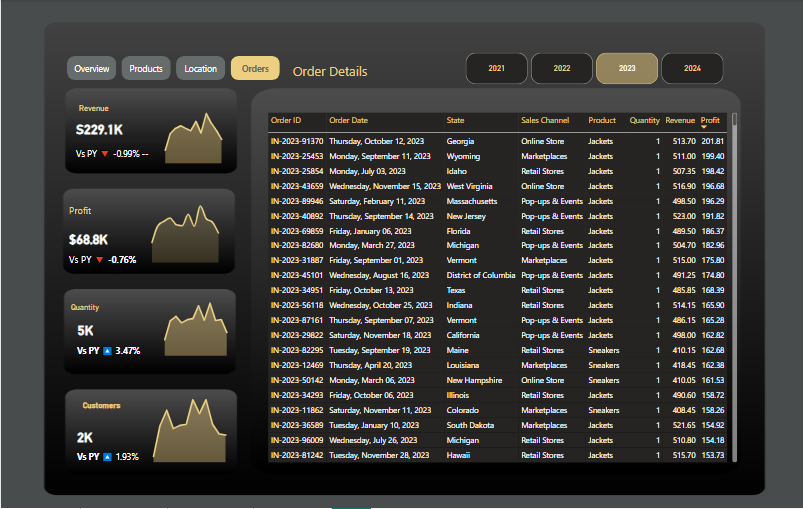

The page's visual inventory and layout, read from the dashboard file:
{"tool":"powerbi","page":{"name":"Orders","canvas":[1500,950],"ordinal":3},"visuals":[{"type":"group","id":"g1","title":"Group 6","box":[111,188.5,358.2,498.6],"z":0},{"type":"group","id":"g2","title":"Group 2","box":[111,358.2,344.1,138.6],"z":0,"group":"g1"},{"type":"group","id":"g3","title":"Group 4","box":[123.6,188.5,333.1,121.5],"z":1000,"group":"g1"},{"type":"cardVisual","fields":{"Data":["Wears.TotalProfit"]},"box":[111,363,162.3,133.8],"z":1000,"group":"g6"},{"type":"group","id":"g4","title":"Group 3","box":[125.7,729.1,345.7,171.8],"z":1000},{"type":"tableEx","fields":{"Values":["Wears.Order ID","Wears.Order Date","Wears.State","Wears.Sales Channel","Wears.Product Name","CountNonNull(Wears.Quantity)","Sum(Wears.Revenue)","Wears.TotalProfit"]},"box":[493.7,205.7,888.3,663.9],"z":2000},{"type":"group","id":"g5","title":"Group 1","box":[125.7,523.7,343.6,163.4],"z":2000,"group":"g1"},{"type":"advancedSlicerVisual","fields":{"Values":["Calendar.Year"]},"box":[863.1,94.3,492.3,69.1],"z":3000},{"type":"cardVisual","fields":{"Data":["Sum(Wears.Revenue)"]},"box":[123.6,205.3,180.2,104.7],"z":3000,"group":"g3"},{"type":"textbox","box":[540.5,111,444.1,77.5],"z":4000},{"type":"areaChart","fields":{"Y":["Sum(Wears.Revenue)"],"Category":["Calendar.Month No"]},"box":[282.8,188.5,173.9,121.5],"z":4000,"group":"g3"},{"type":"cardVisual","fields":{"Data":["Wears.TotalCustomers"]},"box":[125.7,758.4,169.7,142.5],"z":4000,"group":"g4"},{"type":"pageNavigator","box":[123.6,104.7,398,48.2],"z":5000},{"type":"cardVisual","fields":{"Data":["Wears.TotalQuantity"]},"box":[125.7,574,173.9,113.1],"z":5000,"group":"g5"},{"type":"textbox","box":[125.7,561.4,136.2,35.6],"z":6000,"group":"g5"},{"type":"areaChart","fields":{"Category":["Calendar.Month No"],"Y":["Wears.TotalCustomers"]},"box":[257.7,729.1,213.7,140.4],"z":6000,"group":"g4"},{"type":"textbox","box":[140.4,188.5,163.4,35.6],"z":7000,"group":"g3"},{"type":"stackedAreaChart","fields":{"Category":["Calendar.Month No"],"Y":["Wears.TotalProfit"]},"box":[256,358.2,199.2,137.2],"z":7000,"group":"g6"},{"type":"areaChart","fields":{"Y":["Sum(Wears.Quantity)"],"Category":["Calendar.Month No"]},"box":[280.7,523.7,188.5,146.6],"z":9000,"group":"g5"},{"type":"textbox","box":[148.7,743.8,90.1,35.6],"z":10000,"group":"g4"},{"type":"group","id":"g6","title":"Group 5","box":[111,358.2,344.1,138.6],"z":10002,"group":"g2"}]}

Visuals, with their boxes in screenshot pixels (x1, y1, x2, y2), scaled from the page's 1500x950 canvas onto the 803x509 screenshot:
"Group 6" group: bbox=(59, 101, 251, 368)
"Group 2" group: bbox=(59, 192, 244, 266)
"Group 4" group: bbox=(66, 101, 244, 166)
cardVisual - Wears.TotalProfit: bbox=(59, 194, 146, 266)
"Group 3" group: bbox=(67, 391, 252, 483)
tableEx - Wears.Order ID x Wears.Order Date: bbox=(264, 110, 740, 466)
"Group 1" group: bbox=(67, 281, 251, 368)
advancedSlicerVisual - Calendar.Year: bbox=(462, 51, 726, 88)
cardVisual - Sum(Wears.Revenue): bbox=(66, 110, 163, 166)
textbox: bbox=(289, 59, 527, 101)
areaChart - Sum(Wears.Revenue) x Calendar.Month No: bbox=(151, 101, 244, 166)
cardVisual - Wears.TotalCustomers: bbox=(67, 406, 158, 483)
pageNavigator: bbox=(66, 56, 279, 82)
cardVisual - Wears.TotalQuantity: bbox=(67, 308, 160, 368)
textbox: bbox=(67, 301, 140, 320)
areaChart - Calendar.Month No x Wears.TotalCustomers: bbox=(138, 391, 252, 466)
textbox: bbox=(75, 101, 163, 120)
stackedAreaChart - Calendar.Month No x Wears.TotalProfit: bbox=(137, 192, 244, 265)
areaChart - Sum(Wears.Quantity) x Calendar.Month No: bbox=(150, 281, 251, 359)
textbox: bbox=(80, 399, 128, 418)
"Group 5" group: bbox=(59, 192, 244, 266)
